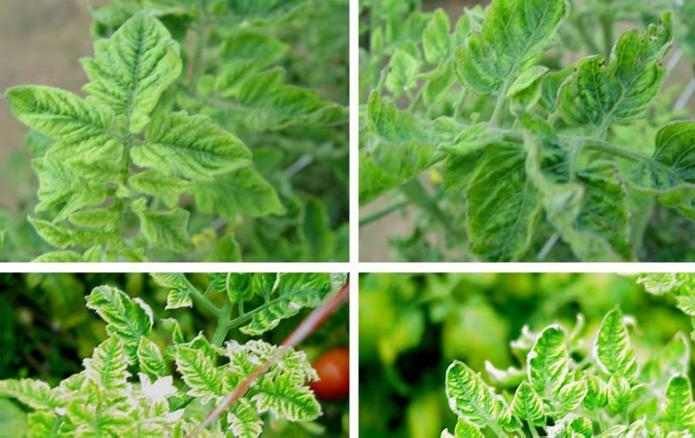Tomato mold leaf: (436, 0, 577, 109), (78, 7, 195, 132), (123, 105, 268, 182), (462, 138, 548, 263), (0, 72, 121, 160)
